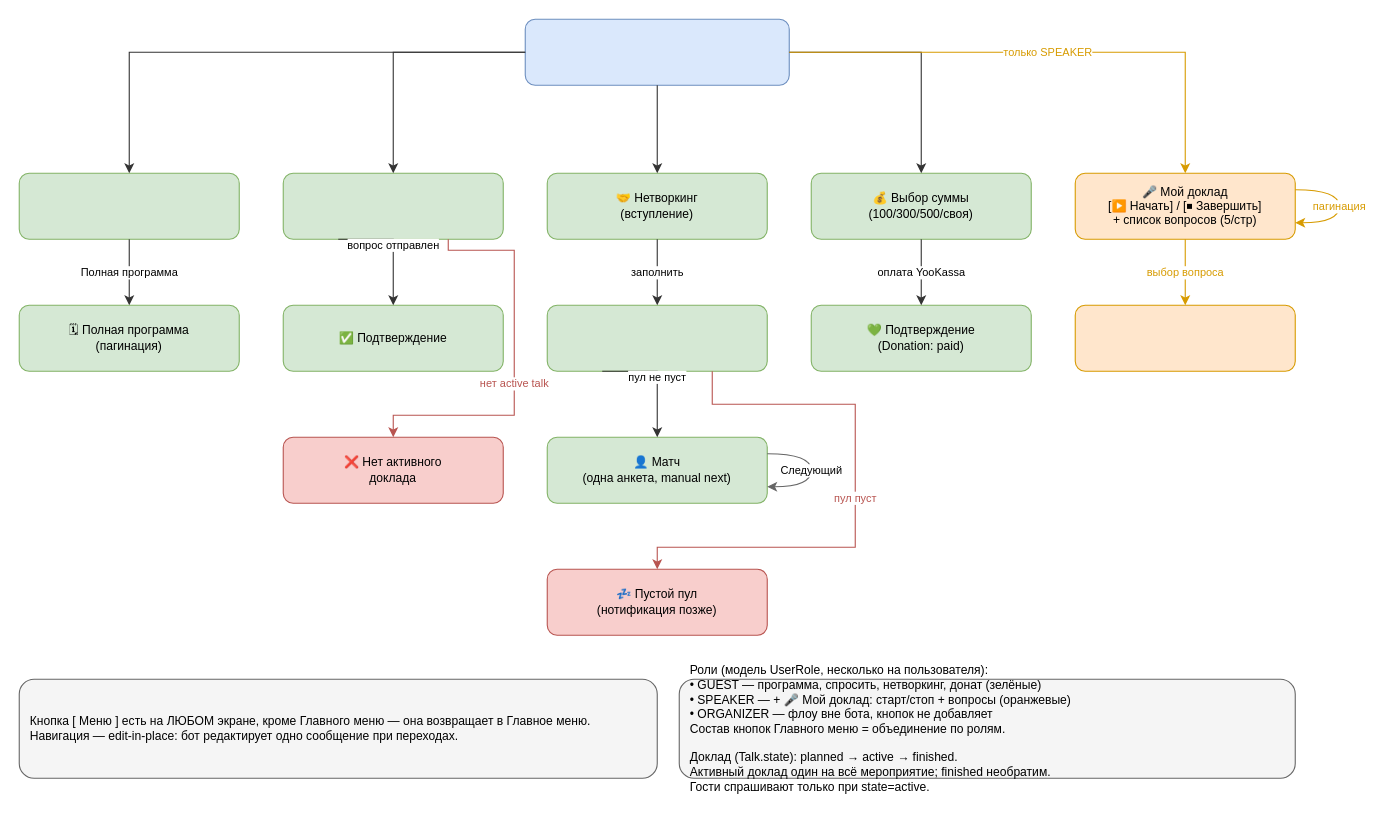
Image size: 1385x813. Some labels were removed from this diagram. Here are the shapes that lost their labels. From the top down, the centre of each, then its label:
At [656,51]: "Главное меню (состав кнопок по ролям пользователя)".
At [128,205]: "📅 Программа (сейчас / дальше)".
At [392,205]: "❓ Ввод вопроса (активный спикер)".
At [656,337]: "✍️ Анкета bio → stack → contact".
At [1184,337]: "✉️ Деталь вопроса (✅ answered)".
